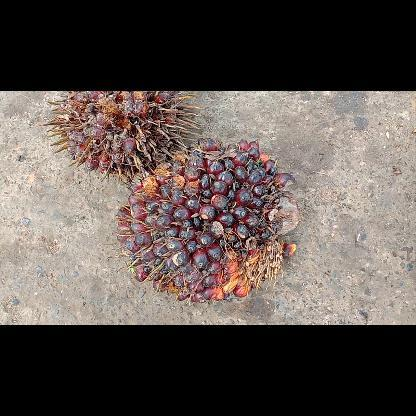Kurang masak: (114, 139, 300, 303)
TBS masak: (43, 90, 199, 178)
